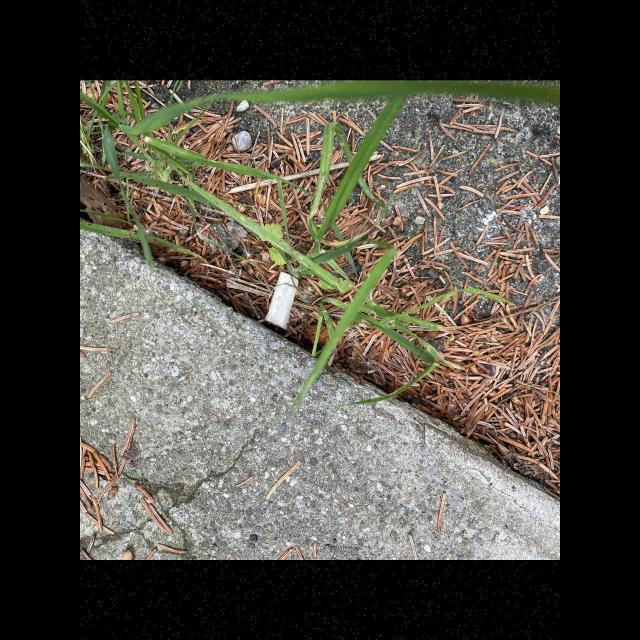cigarette: (265, 271, 299, 330)
